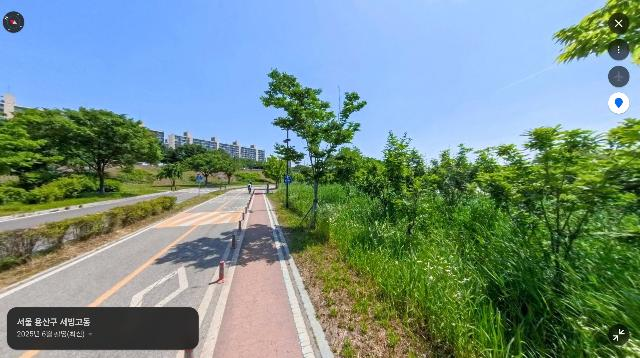other: (503, 123, 640, 327), (259, 67, 368, 231), (25, 105, 166, 196), (428, 143, 495, 233), (552, 0, 640, 65), (376, 130, 422, 234), (327, 145, 383, 213), (182, 151, 237, 188), (155, 159, 191, 192)
